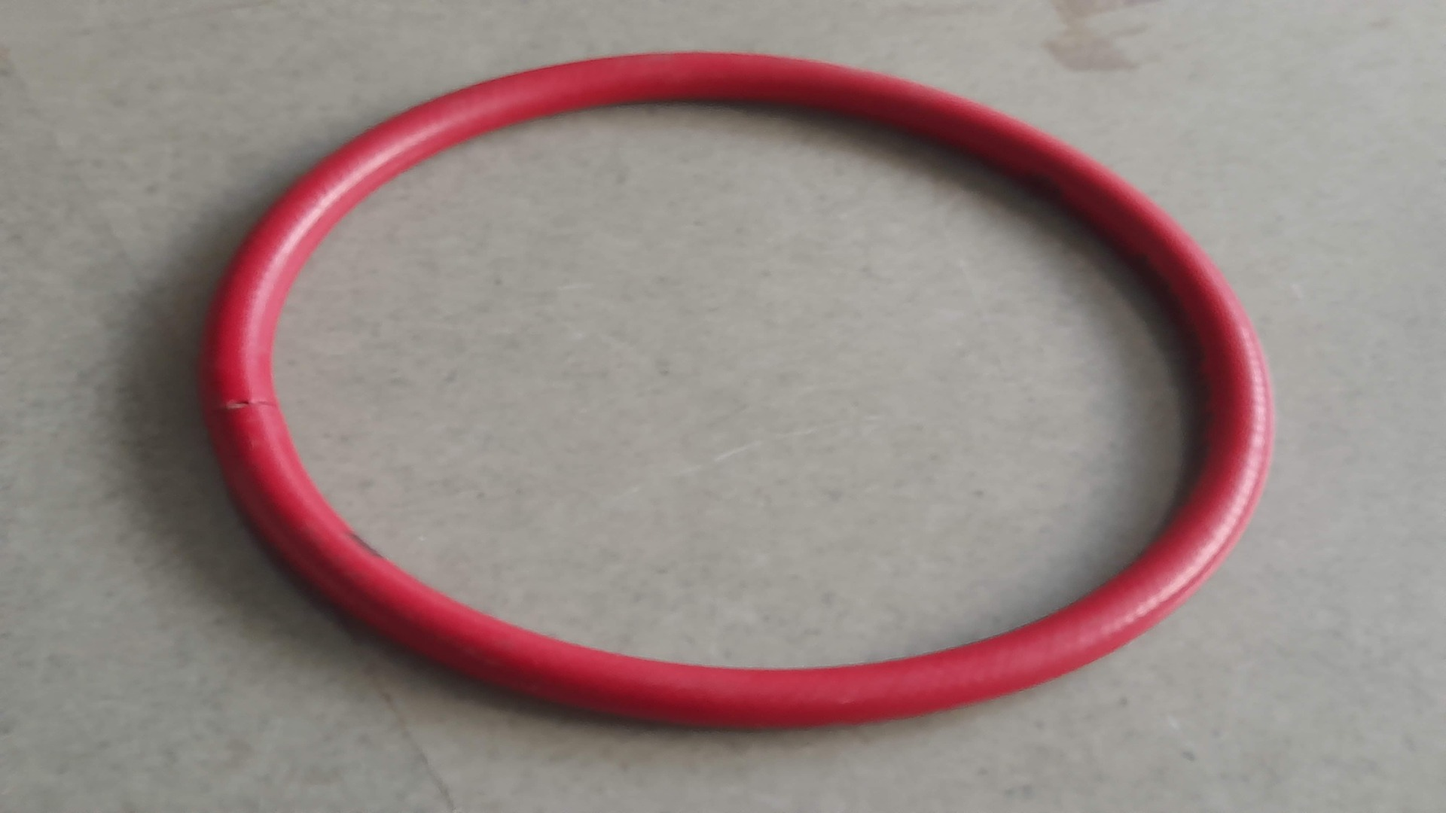Red ring: (191, 44, 1278, 732)
